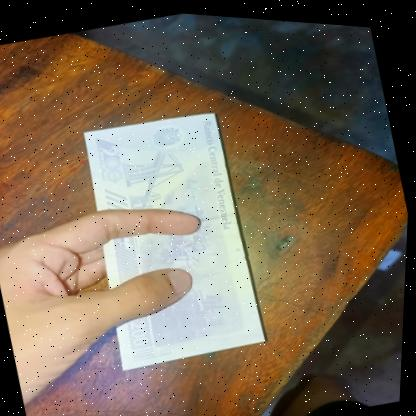two_hundred-back-vef: (66, 95, 279, 379)
